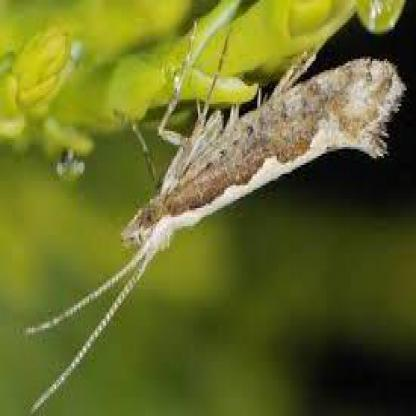plutella: (17, 9, 405, 414)
